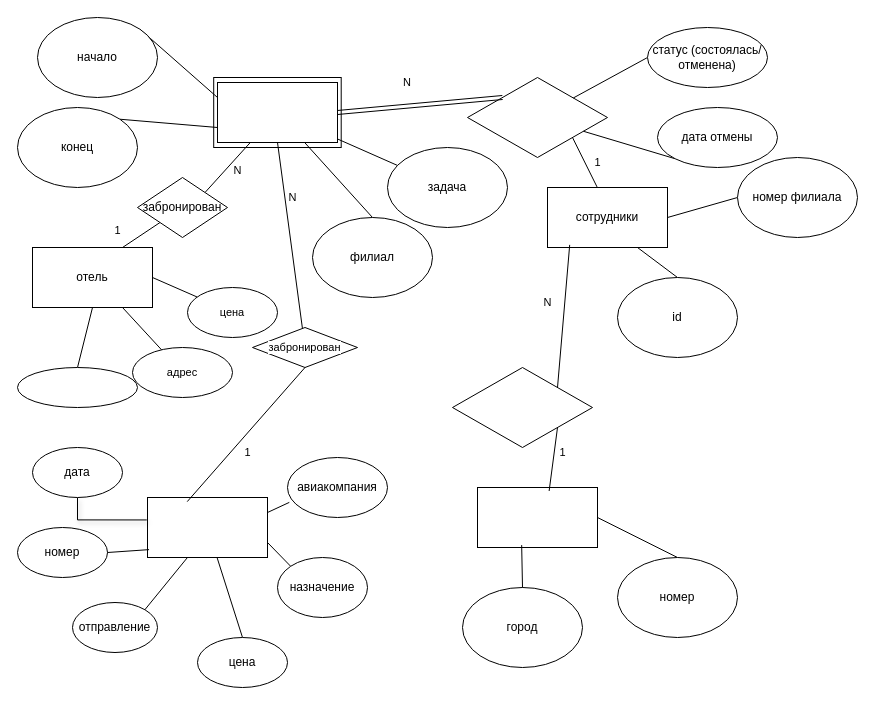
Some shapes in this 875 by 705 pixel diagram are drawn without their labels. Each missing label, with the centre of its shape:
"командировки" goes at (x=277, y=112).
"название" goes at (x=77, y=387).
"назначена сотруднику" goes at (x=537, y=117).
"работают в" goes at (x=522, y=407).
"рейсы" goes at (x=207, y=527).
"филиалы" goes at (x=537, y=517).
